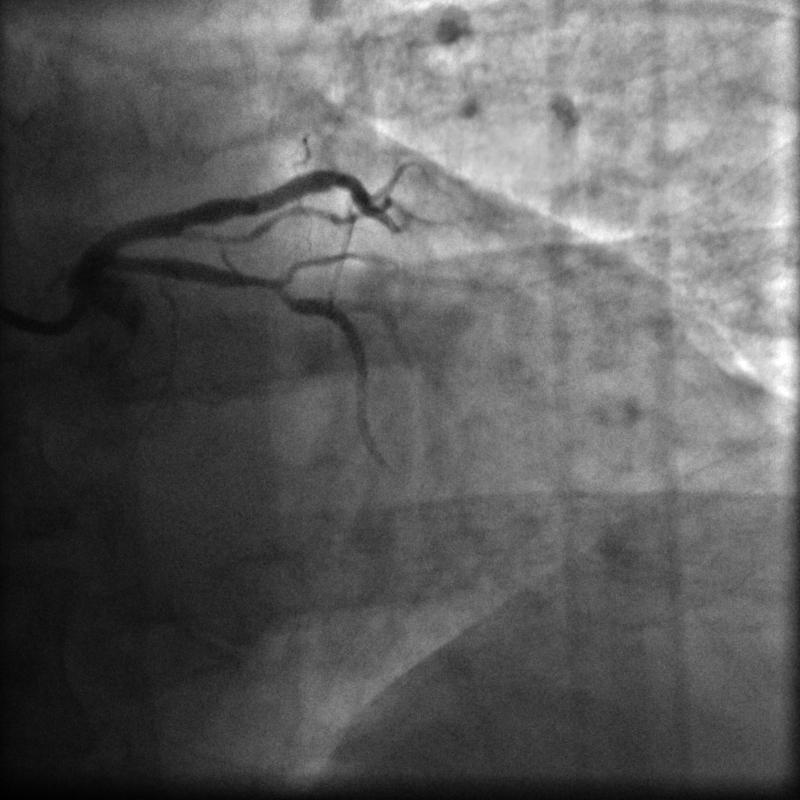Stenosis: (233, 264, 284, 297)
